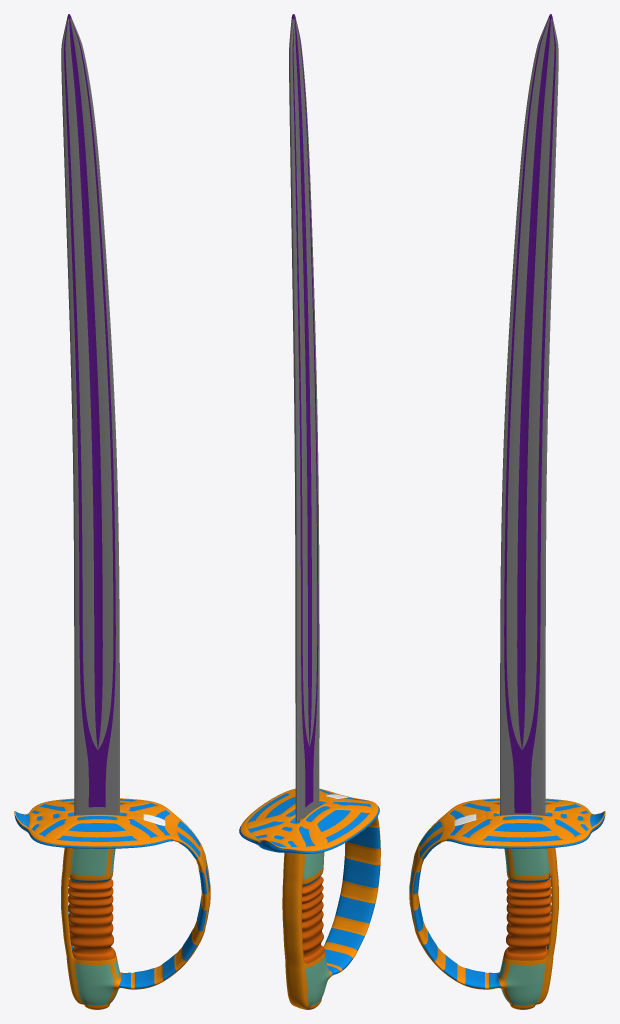
Rendered from saber-model.glb.
3 renders of one model, left to right at view 1: azimuth 90°, elevation 25°; view 2: azimuth 150°, elevation 25°; view 3: azimuth 270°, elevation 25°, orthographic.
Visible parts, largest first — view 1: pCube2; view 2: pCube2; view 3: pCube2.
Part boxes in pixels (x1,y1,x2,y2): pCube2: [14, 14, 210, 1009]; pCube2: [239, 14, 380, 1009]; pCube2: [409, 14, 605, 1009].
Bounding box in the file's own units: 0.0253 × 0.2401 × 0.043.
